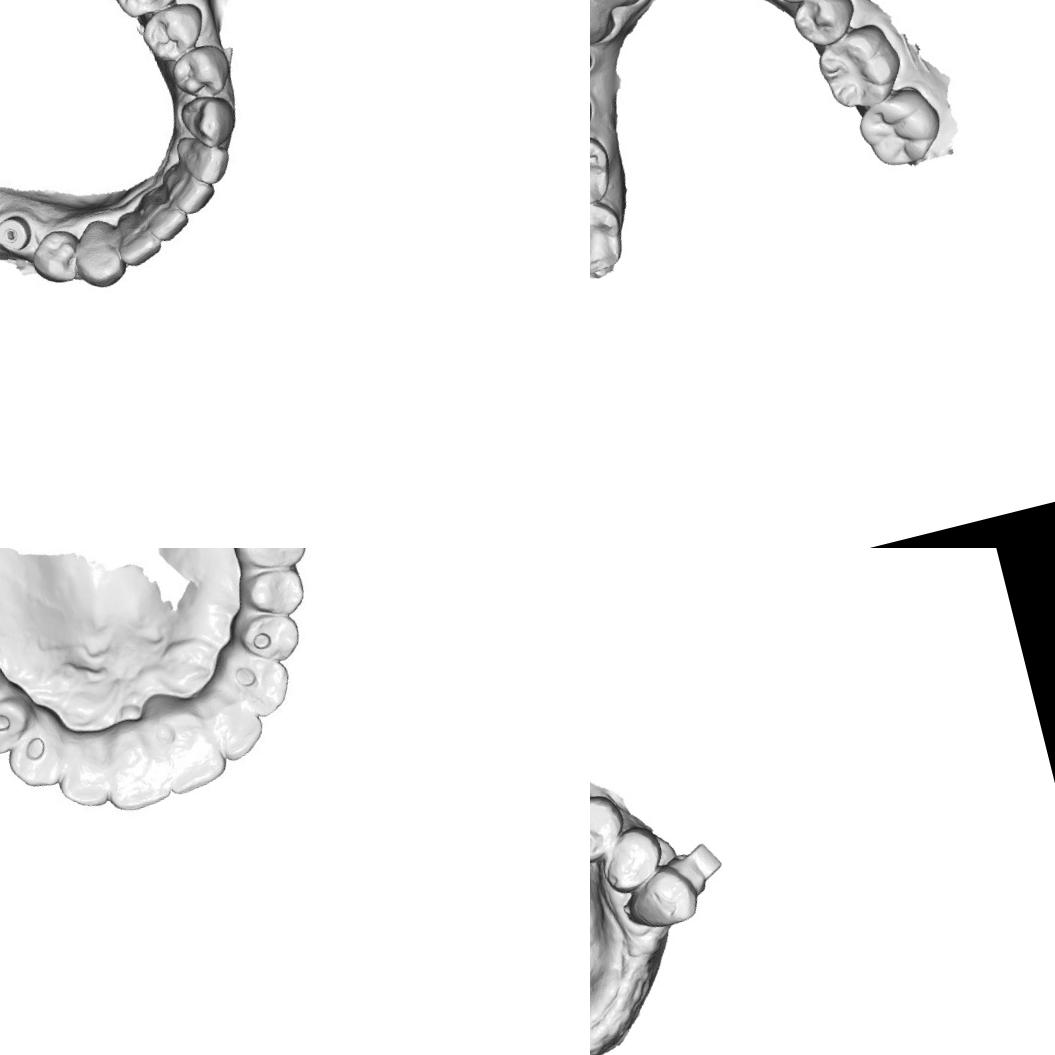canine: (216, 641, 295, 724), (618, 859, 702, 936), (0, 720, 66, 793), (65, 218, 129, 292), (179, 92, 243, 154), (590, 0, 615, 54)
implant: (0, 213, 35, 256)
incisor: (152, 701, 230, 797), (102, 725, 173, 817), (199, 678, 268, 763), (50, 728, 118, 812), (178, 133, 233, 192), (164, 160, 218, 220), (112, 210, 164, 267), (145, 192, 192, 244)
molar: (811, 17, 909, 118), (849, 80, 948, 177), (590, 195, 632, 285), (87, 0, 193, 26), (590, 123, 619, 212), (224, 548, 308, 578)
premolar: (592, 820, 674, 896), (227, 599, 302, 669), (136, 0, 212, 67), (164, 38, 236, 106), (235, 564, 310, 625), (786, 0, 863, 54), (28, 227, 84, 285), (0, 684, 44, 756), (590, 788, 629, 868)
